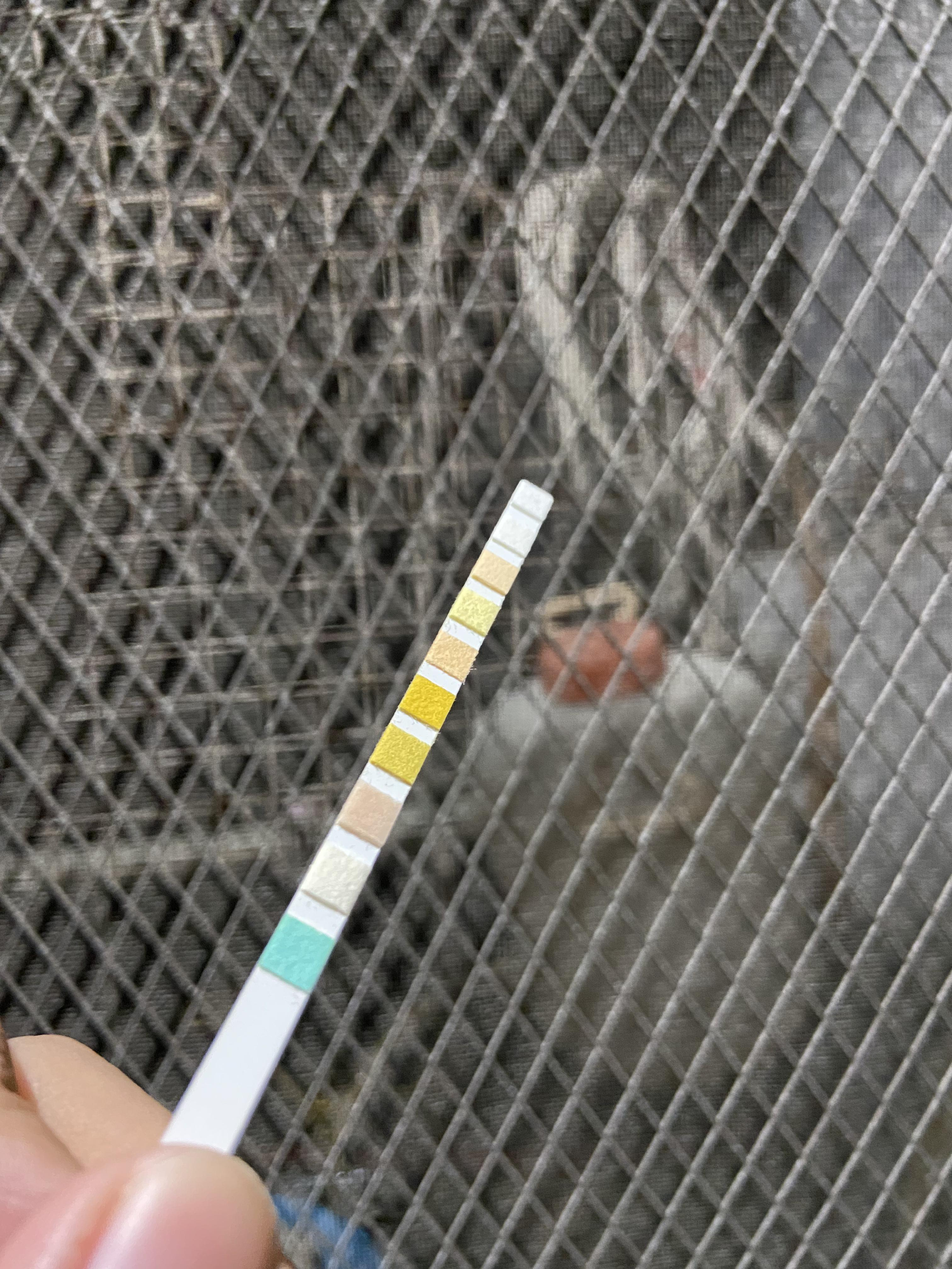Bilirubin: (314, 860, 360, 895)
Blood: (407, 687, 444, 715)
Glucose: (275, 933, 322, 971)
Ketone: (351, 797, 391, 827)
Leukocytes: (522, 491, 543, 507)
Nitrite: (504, 520, 529, 542)
Protein: (458, 599, 490, 620)
SpGravity: (382, 739, 422, 767)
Urobilinogen: (482, 563, 509, 578)
pH: (434, 646, 470, 665)
strip: (161, 480, 553, 1153)
